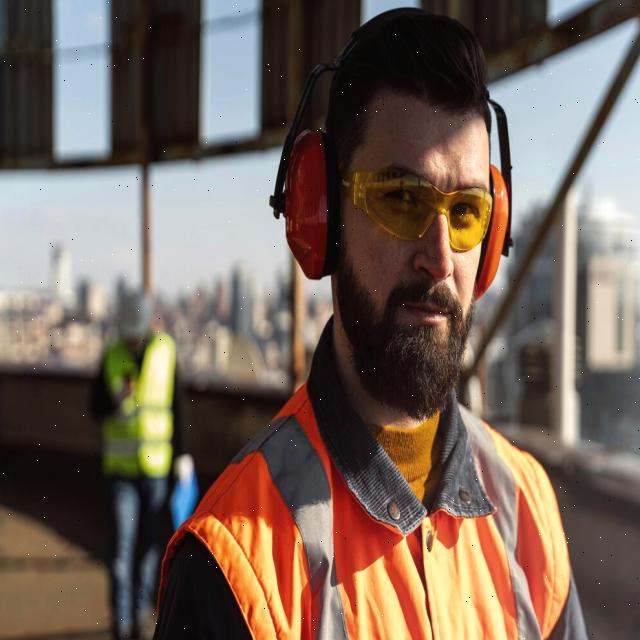Earmuffs: (270, 8, 423, 278), (475, 92, 512, 299)
No Hardhat: (326, 11, 492, 172)
No Overall Suit: (160, 324, 586, 640), (103, 332, 176, 480)
